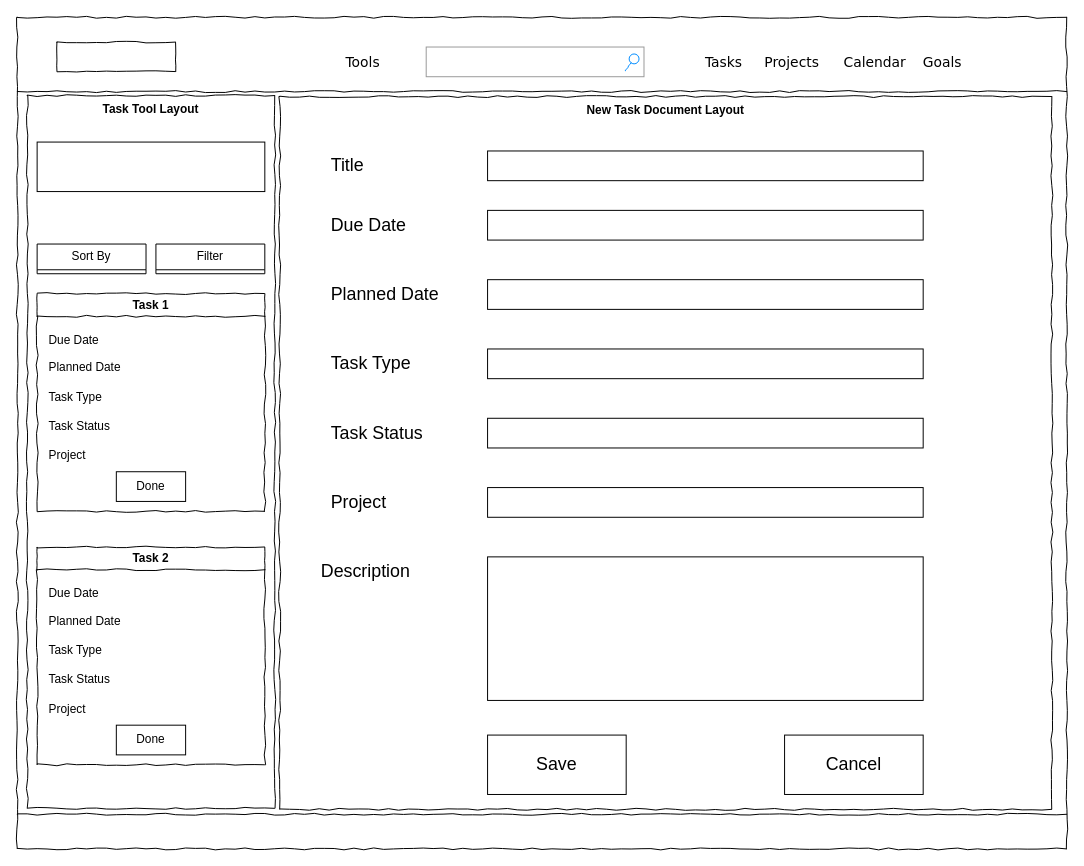
Some shapes in this 1084 by 866 pixel diagram are drawn without their labels. Each missing label, with the centre of its shape:
"Home" goes at point (116, 56).
"New Task" goes at point (150, 166).
"Search" goes at point (534, 61).
